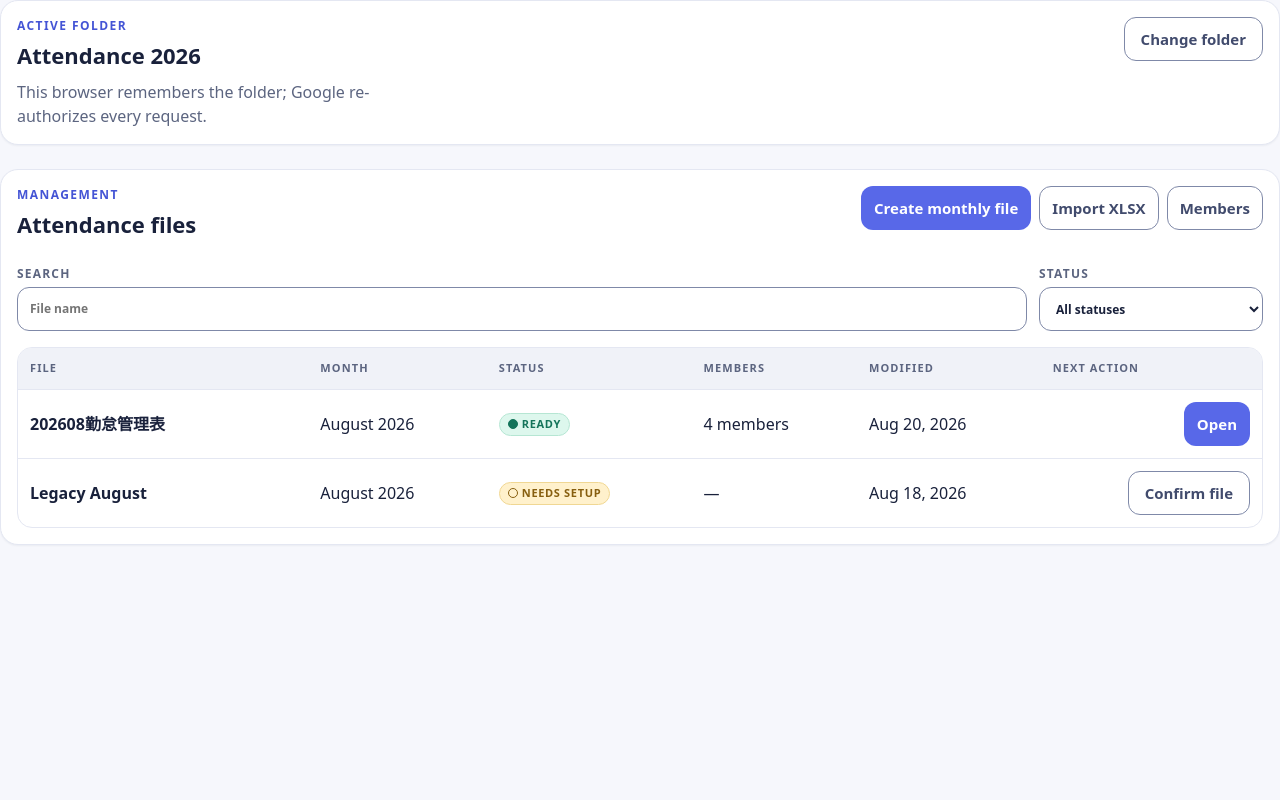
ManageClient › filters rows without changing the server discovery request
Expected: the row "202608勤怠管理表 August 2026 Ready 4 members Aug 20, 2026 Open" is shown, [18, 389, 1262, 458]
Step 1. Type "Legacy" into the search field named "Search managed files" → (522, 309), box [17, 287, 1027, 331]
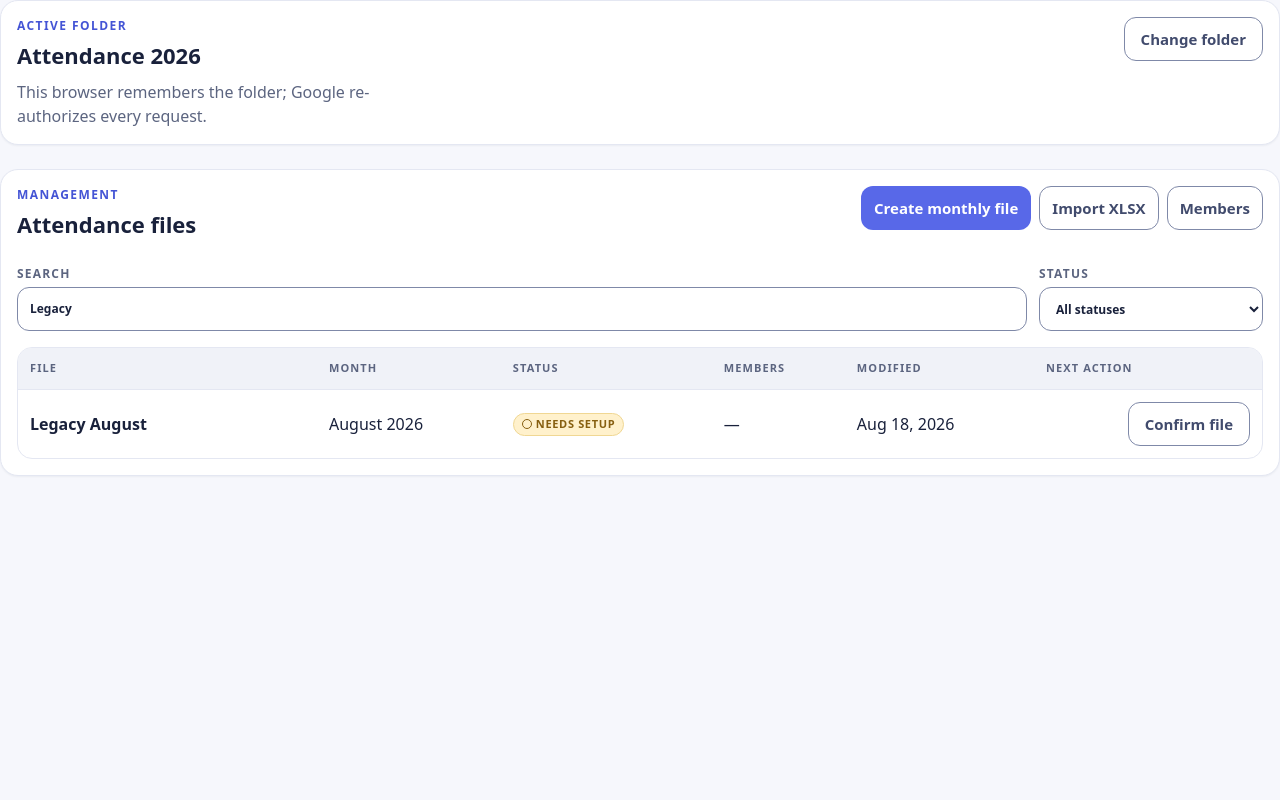
Expected: the row "Legacy August" is shown, [18, 389, 1262, 458]
Result: the text "202608勤怠管理表" is gone
